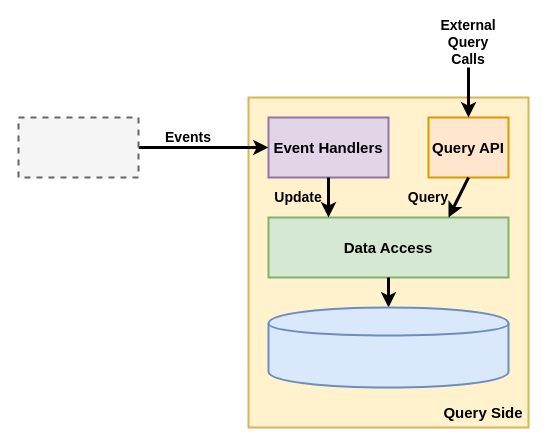
Image size: 546x445. Some labels were removed from this diagram. Here are the shapes that lost their labels. From the top down, the centre of each, then its label:
At [78,147]: "Command Side".
At [388,347]: "View Database".
